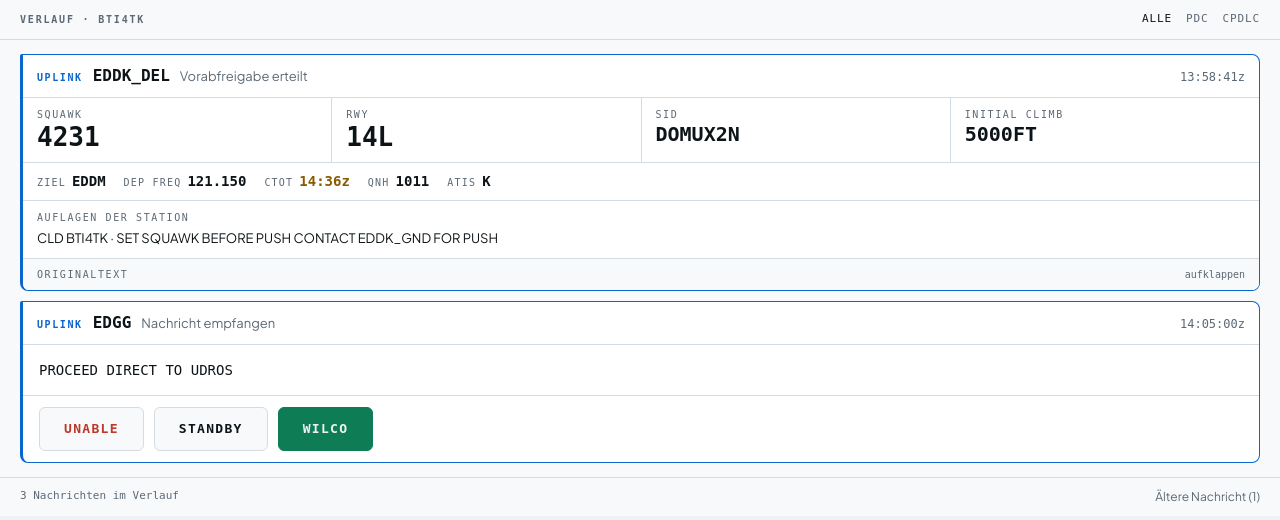
Test case: DatalinkHistory — filters and footer › filters PDC and CPDLC traffic independently
Click the button "PDC" at (1197, 20), box [1186, 11, 1208, 28]
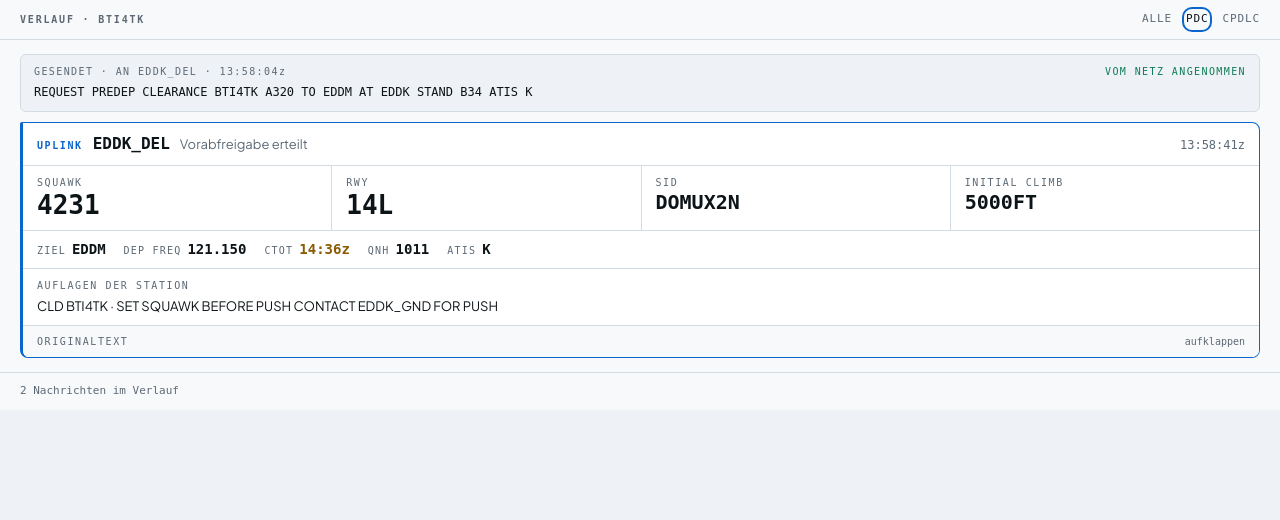
Expected: the text "PROCEED DIRECT TO UDROS" is gone
Expected: the text "REQUEST PREDEP CLEARANCE BTI4TK A320 TO EDDM AT EDDK STAND B34 ATIS K" is shown, [34, 85, 532, 99]
